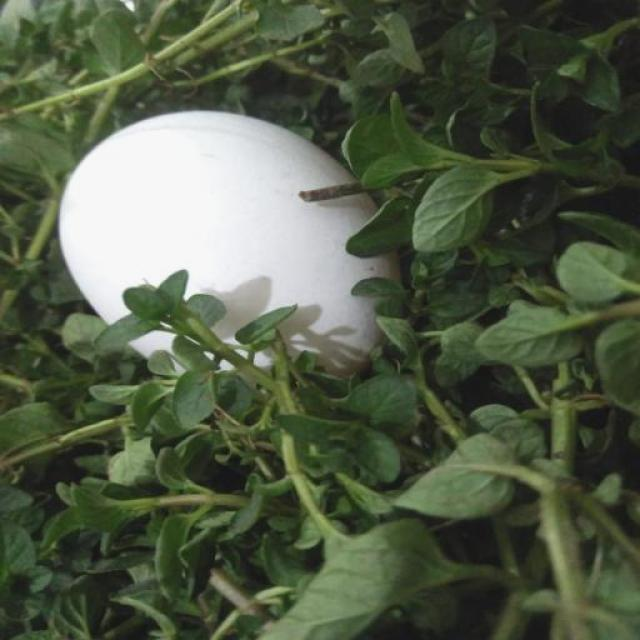telur: (61, 111, 390, 378)
